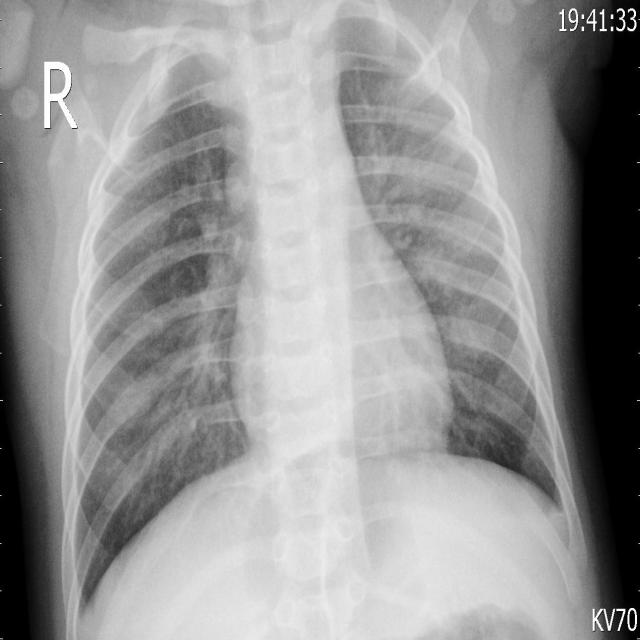high-pneumonia: (359, 101, 503, 414)
low-pneumonia: (159, 112, 252, 484)
